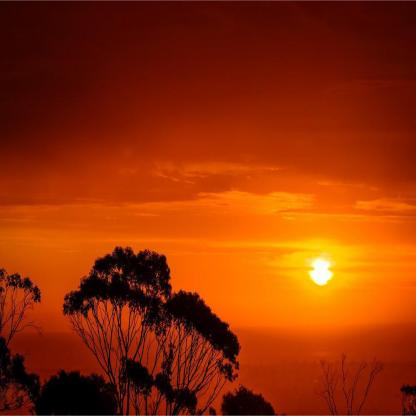other: (282, 233, 357, 309)
